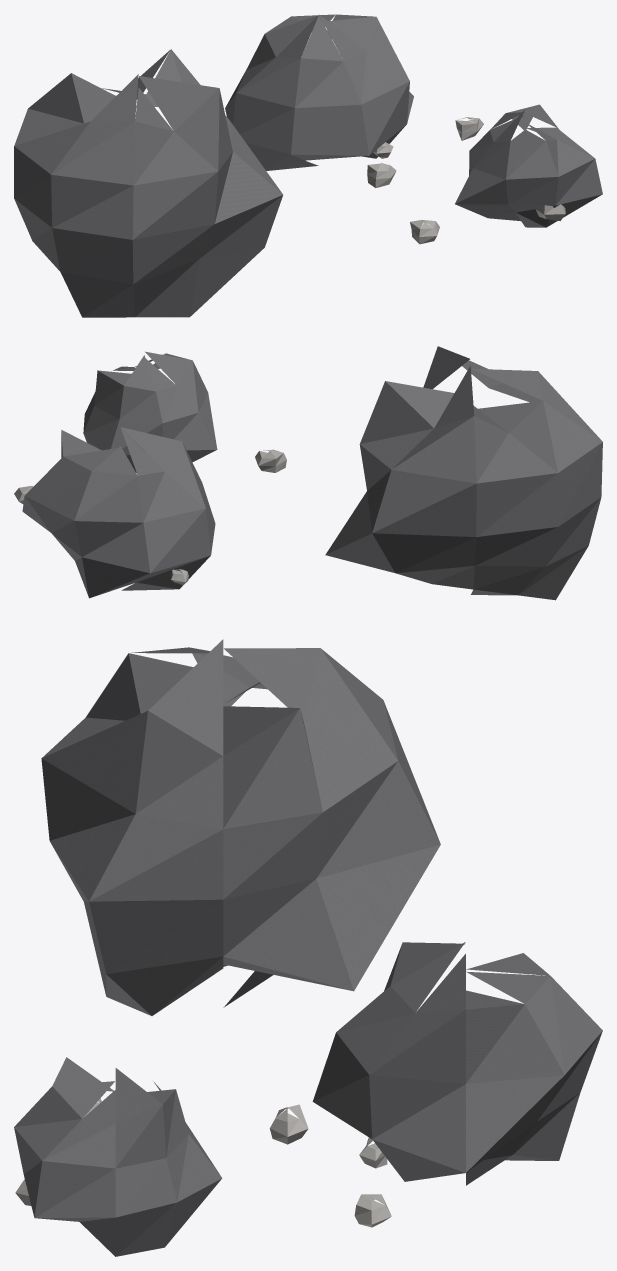
Rendered from volcano-and-lava-fields-volcano-and-lava-fields-boulde-e69bc944__37475.glb.
The picture shows the model from 3 angles, top to bottom: view 1: azimuth 30°, elevation 25°; view 2: azimuth 150°, elevation 25°; view 3: azimuth 270°, elevation 25°; orthographic projection. The views are drawn at different scales.
Visible parts, largest first — view 1: volcano-and-lava-fields-boulder-set; view 2: volcano-and-lava-fields-boulder-set; view 3: volcano-and-lava-fields-boulder-set.
Boxes of the visible parts, x1,y1,x2,y2 form: volcano-and-lava-fields-boulder-set: [14, 14, 602, 317]; volcano-and-lava-fields-boulder-set: [14, 346, 602, 600]; volcano-and-lava-fields-boulder-set: [14, 639, 602, 1256].
Bounding box in the file's own units: 3.38 × 1.53 × 2.19.
2 materials, 2 textured.
